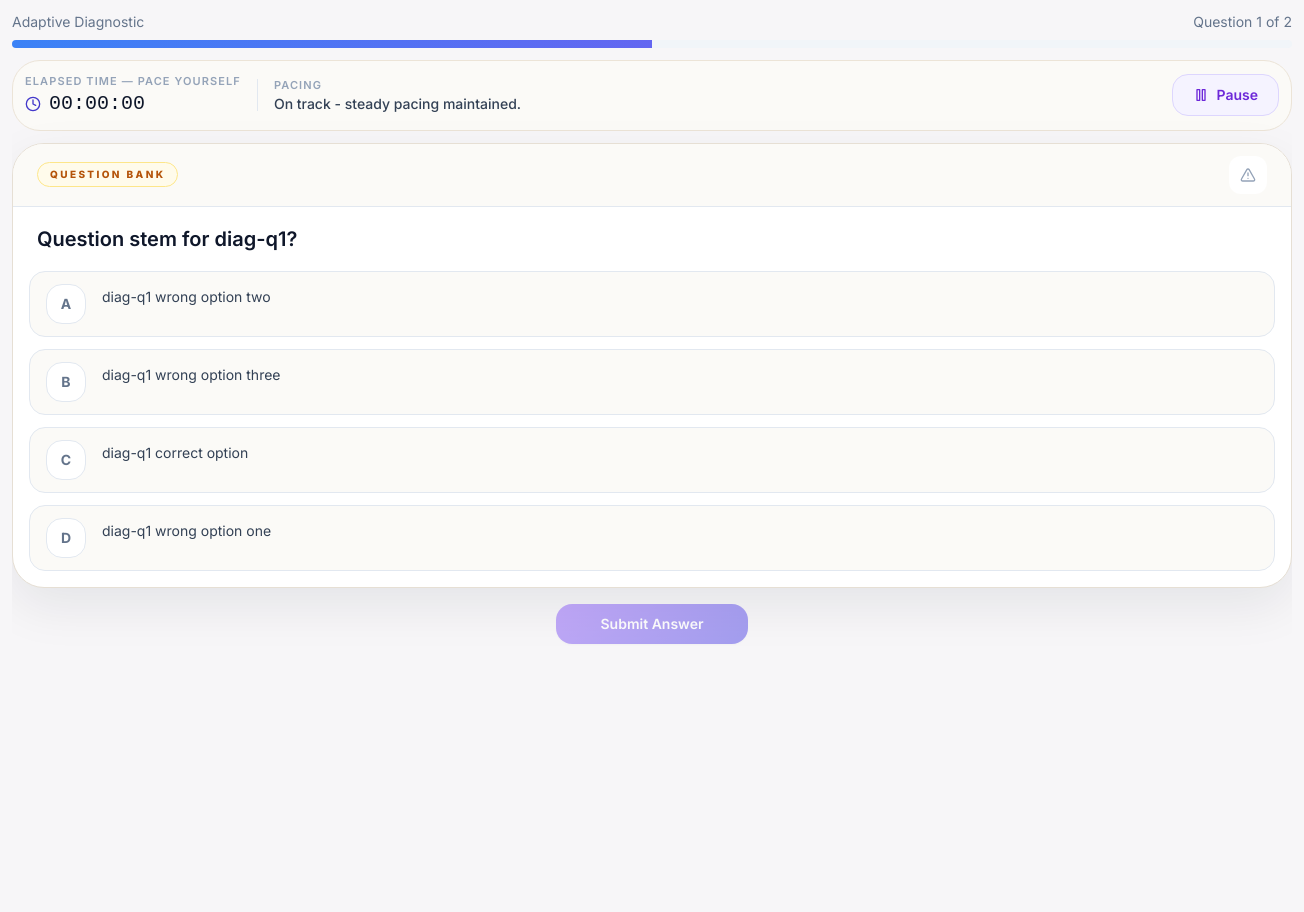
Test: AdaptiveDiagnostic — answer › logs a correct answer, updates skill progress, and auto-advances
Click the text "diag-q1 correct option" at coordinates (175, 452), box [102,444,248,460]
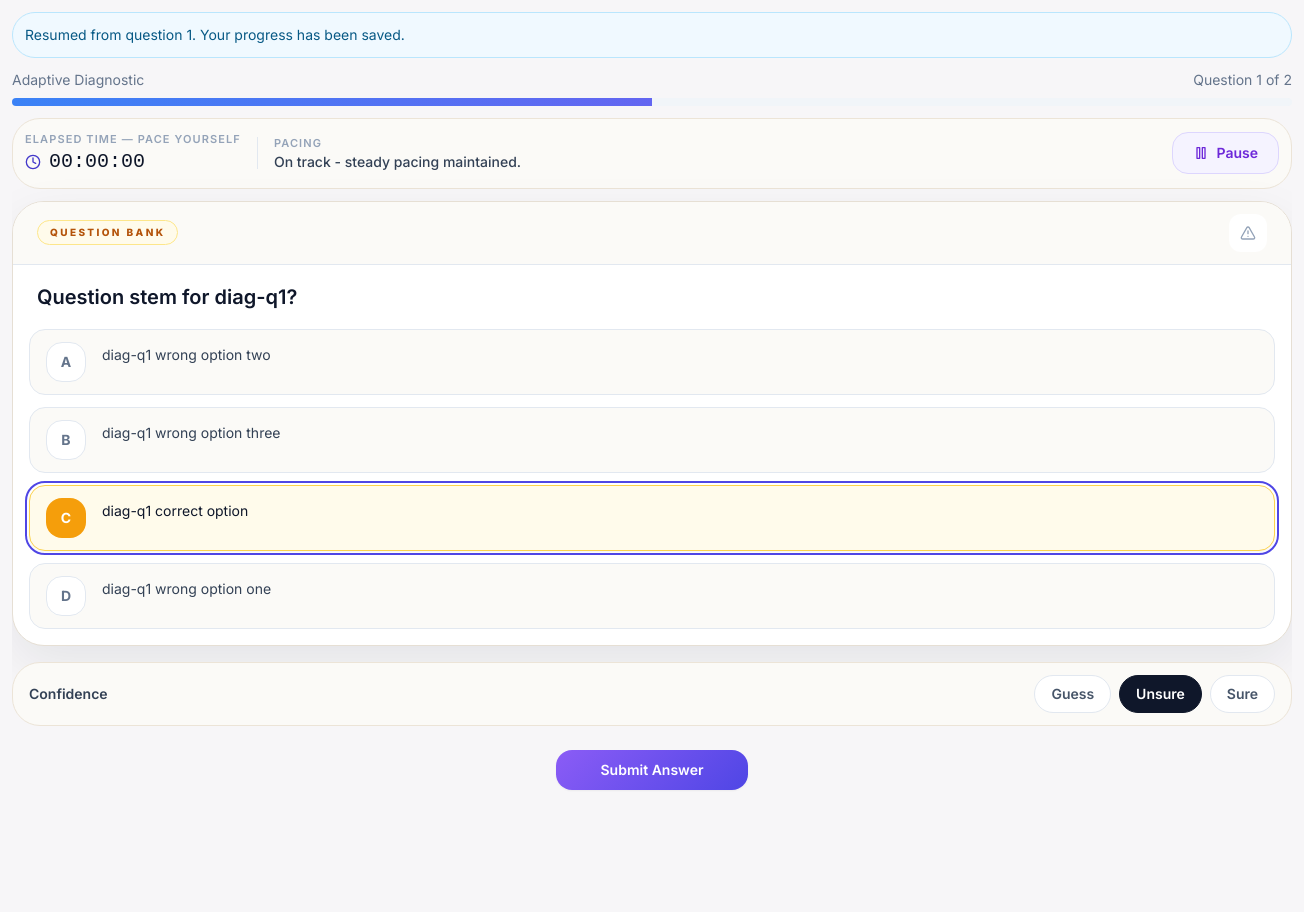
Click the button "Submit Answer" at coordinates (652, 770), box [556,750,748,790]
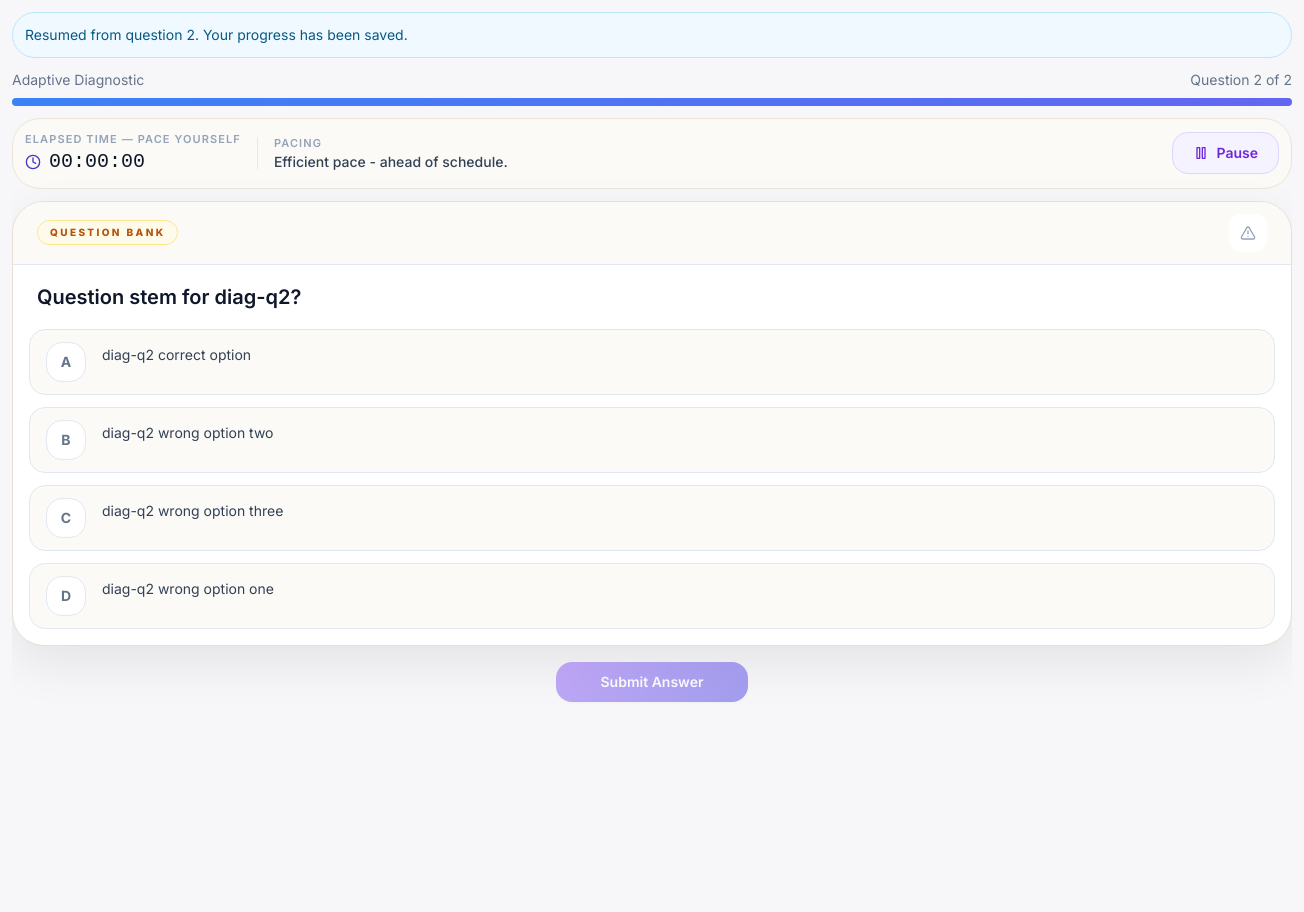
Check: the text "Question 2 of 2" is shown, box [1190,70,1292,90]
